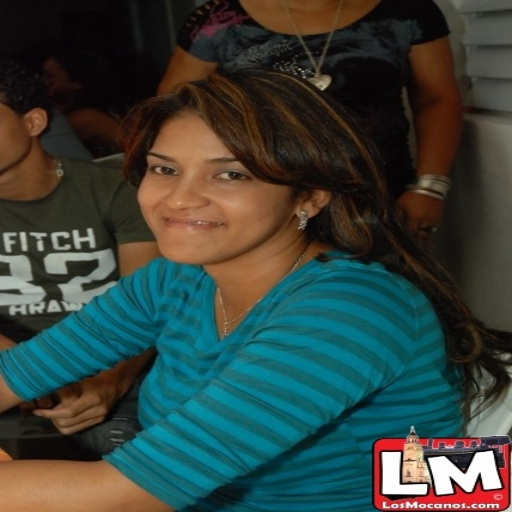hand: (33, 361, 141, 437), (393, 189, 447, 253), (17, 383, 82, 413)
